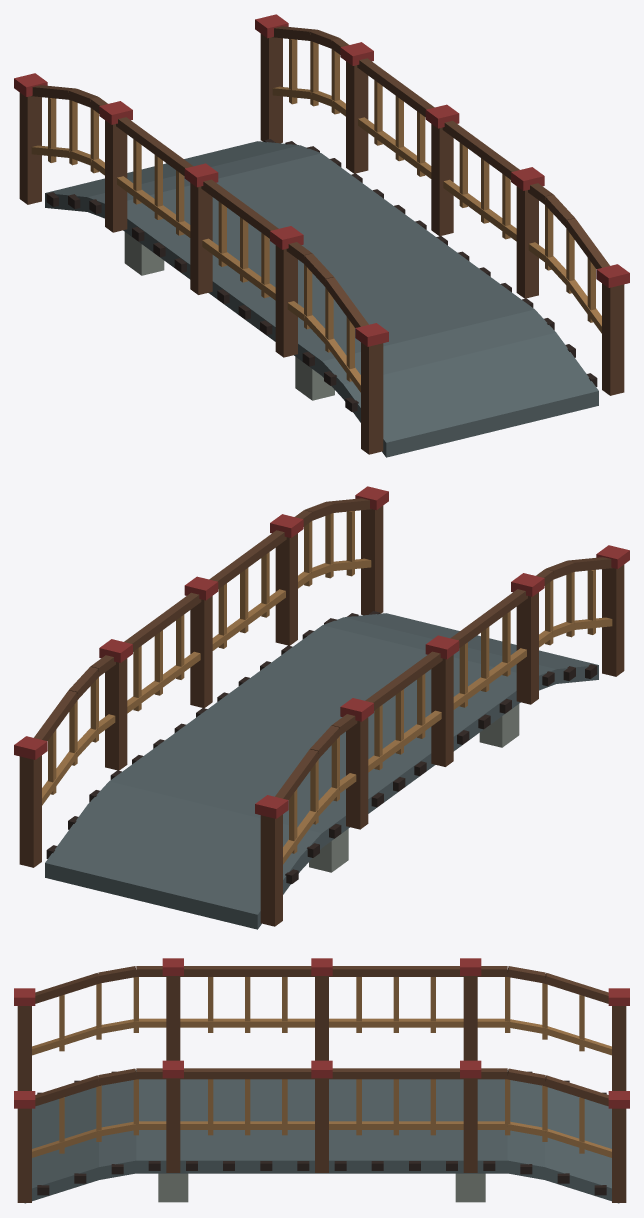
Rendered from PirateCove_Footbridge_Showcase.glb.
The picture shows the model from 3 angles, top to bottom: view 1: azimuth 30°, elevation 25°; view 2: azimuth 150°, elevation 25°; view 3: azimuth 270°, elevation 25°; orthographic projection. The views are drawn at different scales.
Parts seen in each view (by area): view 1: PirateCove_Footbridge_Showcase; view 2: PirateCove_Footbridge_Showcase; view 3: PirateCove_Footbridge_Showcase.
Part boxes in pixels (left/top/right/bottom): PirateCove_Footbridge_Showcase: left=14, top=14, right=629, bottom=457; PirateCove_Footbridge_Showcase: left=14, top=486, right=629, bottom=929; PirateCove_Footbridge_Showcase: left=14, top=958, right=629, bottom=1203.
Bounding box in the file's own units: 2.22 × 1.34 × 5.18.
